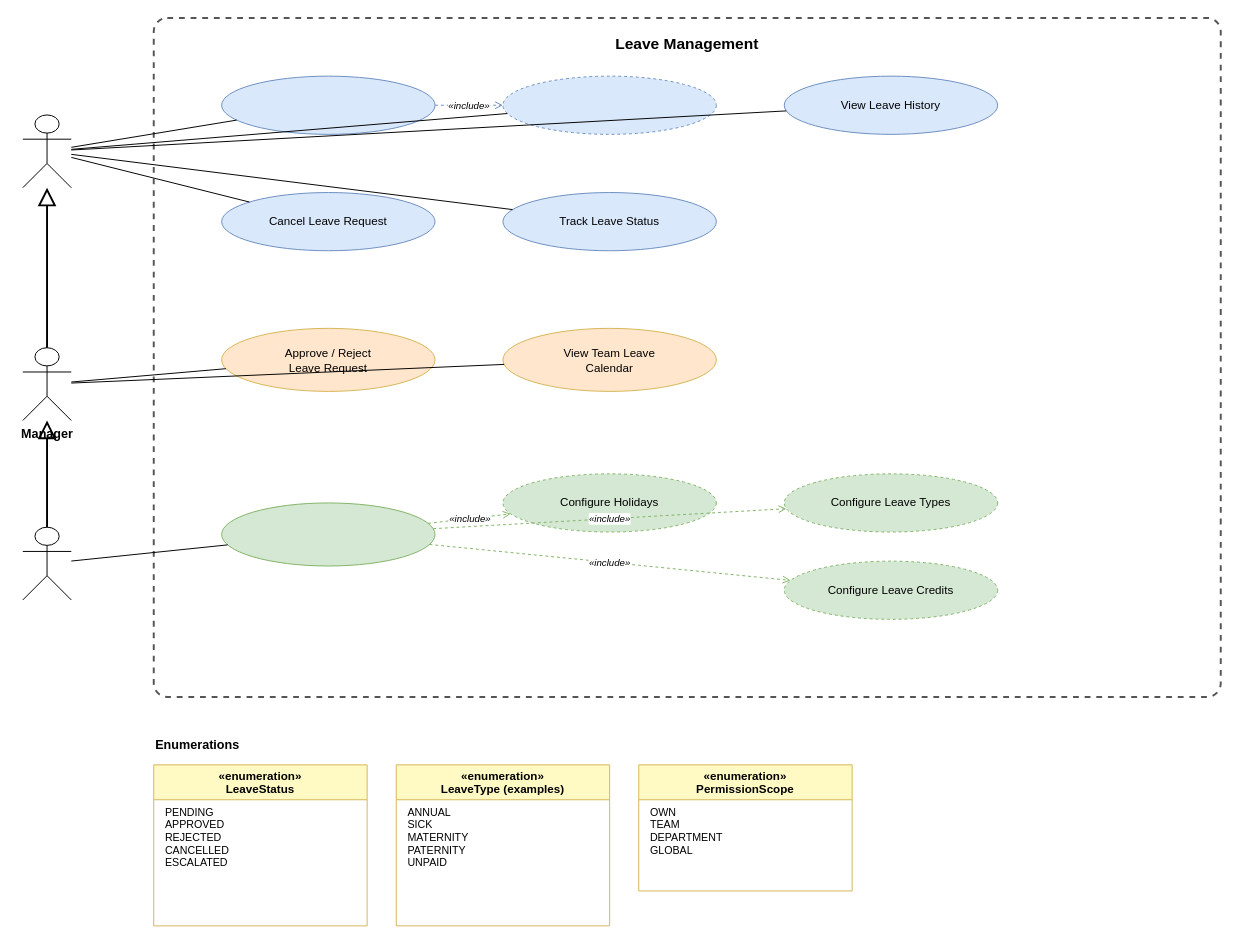
This 1239x943 diagram has some shape labels left out. The shapes that lost their labels are listed below. From the top down, each one's centre as x and y in pixels, then its label:
At point 328,104: "Submit Leave Request".
At point 609,104: "View Leave Balance".
At point 46,151: "Employee".
At point 328,534: "Manage Leave Configuration".
At point 46,563: "HR Admin".
